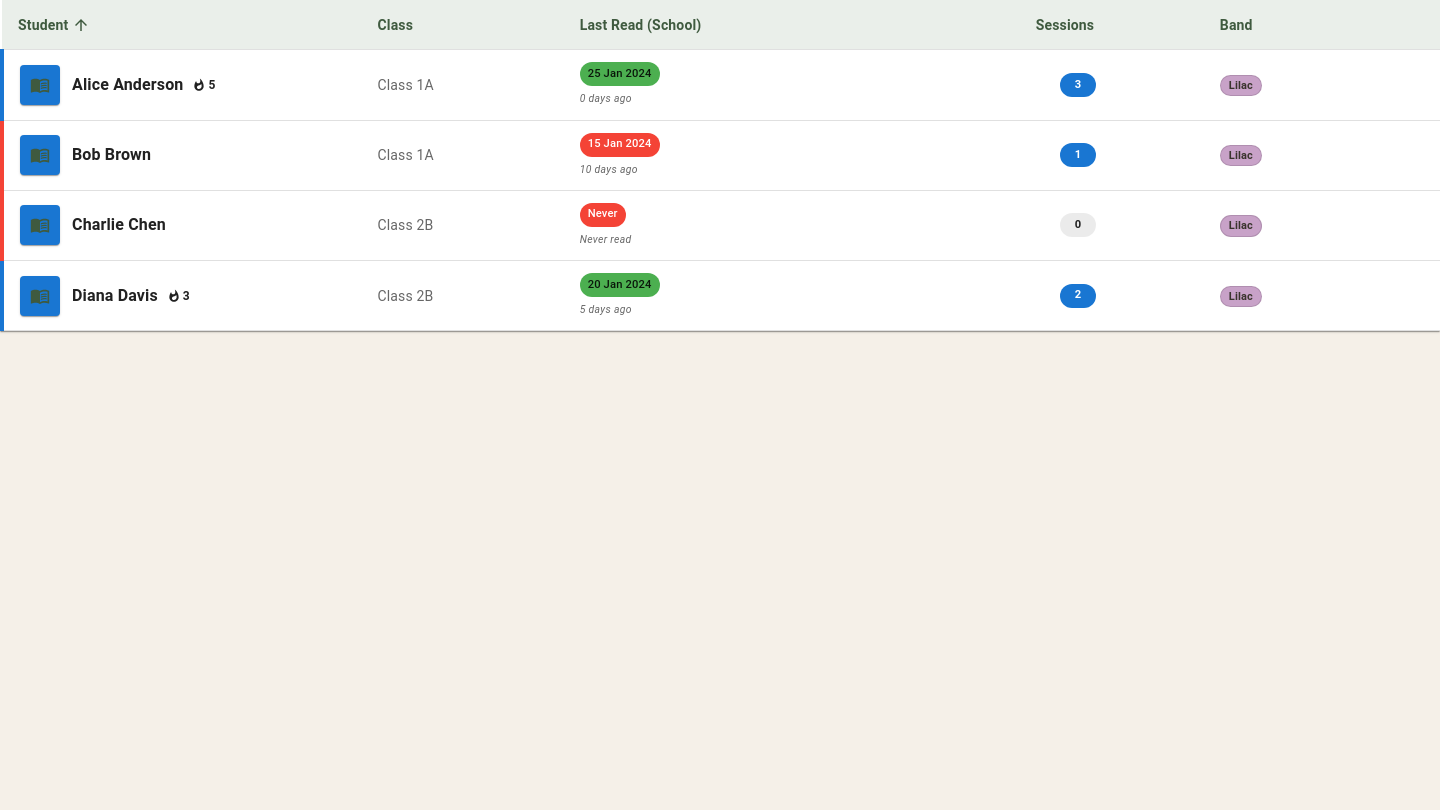
Test: StudentTable Component › Mark as Reading Today Button › should show snackbar after marking student
The width and height of the screenshot is (1440, 810).
Click the button named "mark alice anderson as reading today" at (40, 85), box [20,65,60,105]
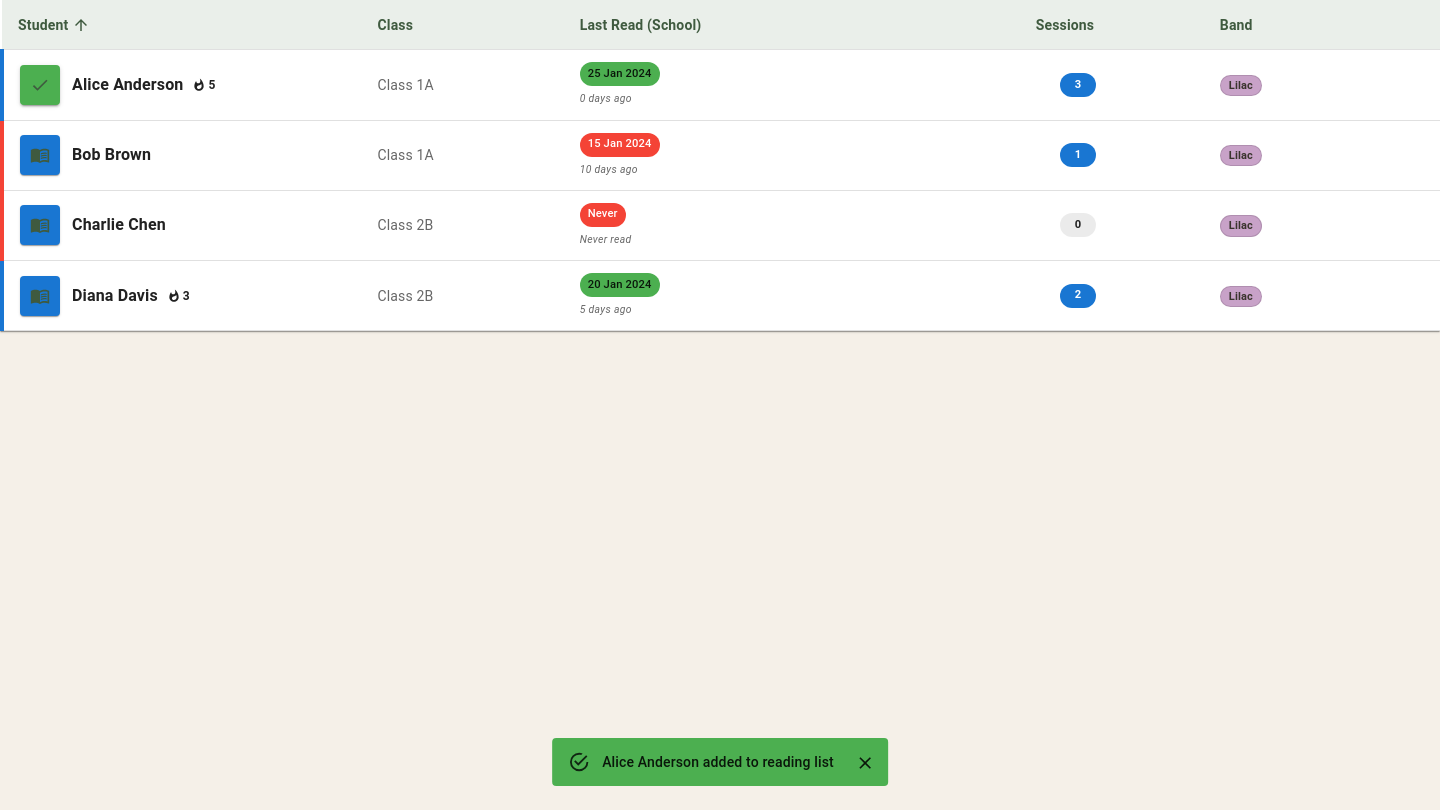
Check: the text "Alice Anderson added to reading list" is shown, box [602,754,834,770]
